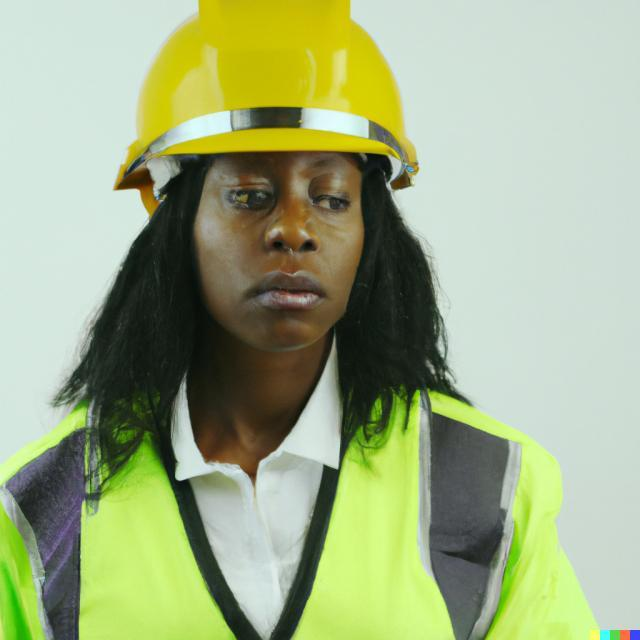reflective_jacket: (20, 359, 590, 634)
safety_helmet: (112, 5, 421, 181)
